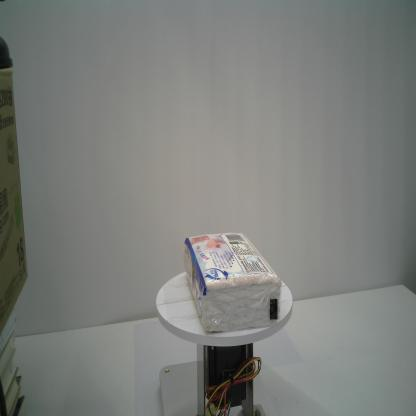Tissue: (182, 231, 282, 334)
